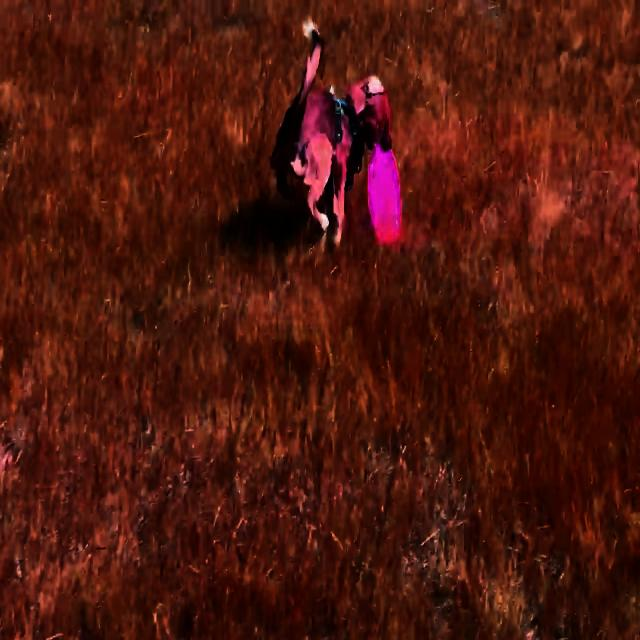Dog: (269, 15, 392, 249)
